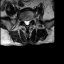CCS_normal: (26, 18, 27, 27)
LFS_stenosis: (30, 16, 32, 23)
LLS_normal: (27, 18, 30, 26)
RFS_stenosis: (22, 17, 24, 23)
RLS_normal: (24, 18, 26, 25)
